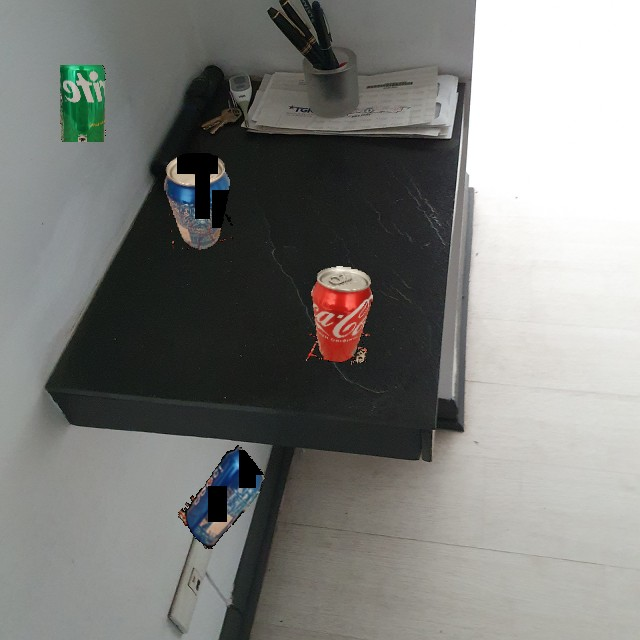coca cola: (306, 265, 375, 365)
pepsi: (170, 442, 275, 549), (164, 153, 236, 251)
sprite: (60, 65, 107, 142)
